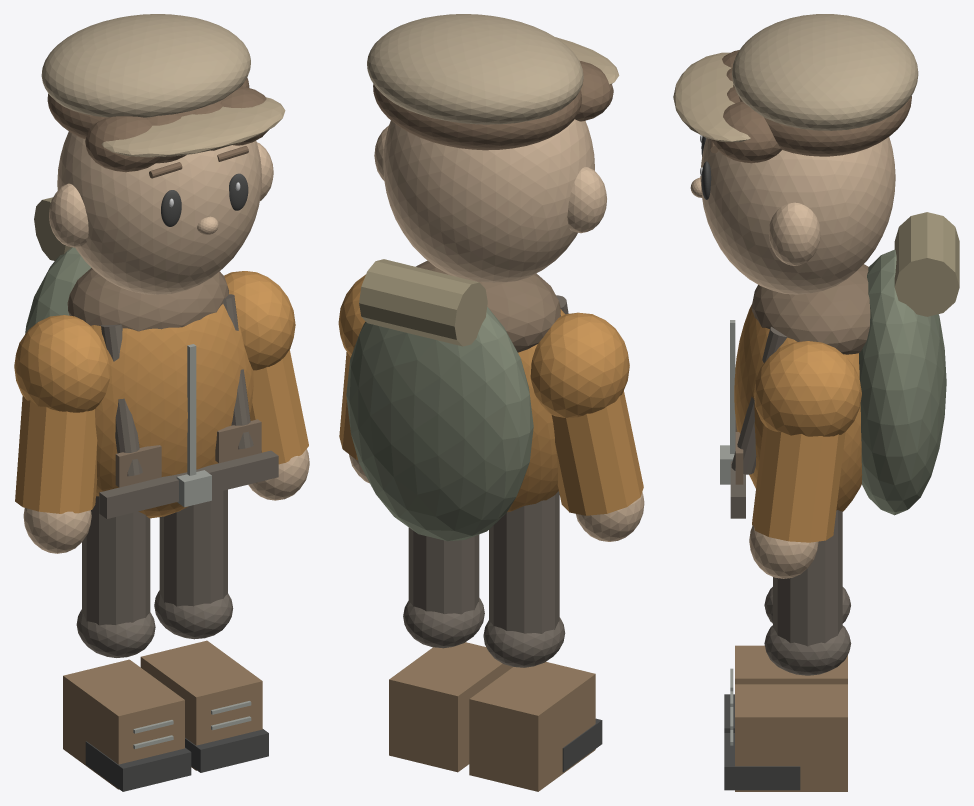
The model's file is original-male.glb.
The picture shows the model from 3 angles, left to right: view 1: azimuth 30°, elevation 25°; view 2: azimuth 150°, elevation 25°; view 3: azimuth 270°, elevation 25°; orthographic projection. The views are drawn at different scales.
Visible parts, largest first — view 1: explorer_part_022, explorer_part_008, explorer_part_038, explorer_part_002, explorer_part_011, explorer_part_006, explorer_part_010, explorer_part_000, explorer_part_004, explorer_part_009, explorer_part_039, explorer_part_013 (+23 smaller); view 2: explorer_part_040, explorer_part_022, explorer_part_038, explorer_part_002, explorer_part_006, explorer_part_000, explorer_part_010, explorer_part_011, explorer_part_041, explorer_part_004, explorer_part_033, explorer_part_009 (+10 smaller); view 3: explorer_part_022, explorer_part_038, explorer_part_040, explorer_part_006, explorer_part_014, explorer_part_013, explorer_part_009, explorer_part_041, explorer_part_004, explorer_part_008, explorer_part_039, explorer_part_033 (+9 smaller).
Boxes of the visible parts, bbox=[...] form: explorer_part_022: bbox=[57, 131, 261, 294]; explorer_part_008: bbox=[90, 292, 253, 518]; explorer_part_038: bbox=[41, 14, 250, 117]; explorer_part_002: bbox=[63, 659, 184, 789]; explorer_part_011: bbox=[15, 396, 97, 513]; explorer_part_006: bbox=[140, 640, 262, 770]; explorer_part_010: bbox=[14, 315, 109, 412]; explorer_part_000: bbox=[82, 496, 150, 625]; explorer_part_004: bbox=[159, 489, 227, 606]; explorer_part_009: bbox=[67, 268, 228, 331]; explorer_part_039: bbox=[101, 97, 285, 157]; explorer_part_013: bbox=[224, 271, 295, 370]; explorer_part_040: bbox=[346, 307, 533, 541]; explorer_part_022: bbox=[383, 119, 594, 282]; explorer_part_038: bbox=[367, 14, 583, 124]; explorer_part_002: bbox=[469, 662, 595, 791]; explorer_part_006: bbox=[389, 642, 512, 772]; explorer_part_000: bbox=[489, 491, 559, 633]; explorer_part_010: bbox=[530, 312, 629, 417]; explorer_part_011: bbox=[551, 390, 643, 515]; explorer_part_041: bbox=[359, 259, 487, 346]; explorer_part_004: bbox=[408, 527, 479, 614]; explorer_part_033: bbox=[373, 84, 581, 150]; explorer_part_009: bbox=[416, 260, 560, 352]; explorer_part_022: bbox=[700, 137, 895, 294]; explorer_part_038: bbox=[732, 14, 918, 130]; explorer_part_040: bbox=[859, 249, 946, 515]; explorer_part_006: bbox=[735, 684, 847, 791]; explorer_part_014: bbox=[752, 424, 845, 542]; explorer_part_013: bbox=[753, 341, 861, 436]; explorer_part_009: bbox=[751, 264, 870, 354]; explorer_part_041: bbox=[894, 212, 959, 316]; explorer_part_004: bbox=[773, 510, 842, 646]; explorer_part_008: bbox=[734, 304, 862, 511]; explorer_part_039: bbox=[673, 52, 750, 141]; explorer_part_033: bbox=[733, 85, 911, 156].
Size of the model in its own units: 1.53 by 3.66 by 1.32.
